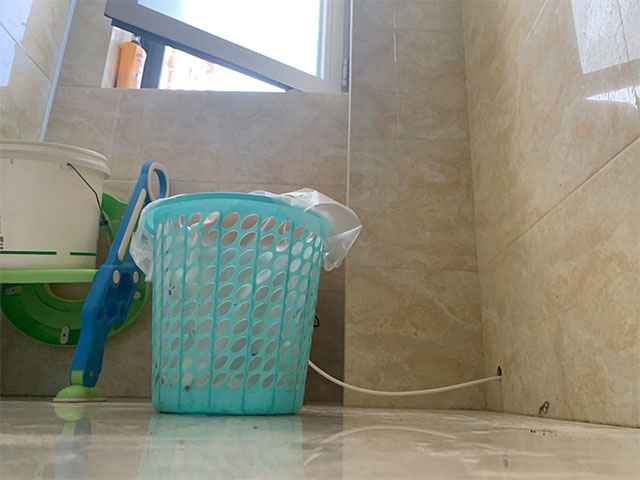trashcan: (141, 191, 333, 418)
wire: (309, 359, 502, 397)
